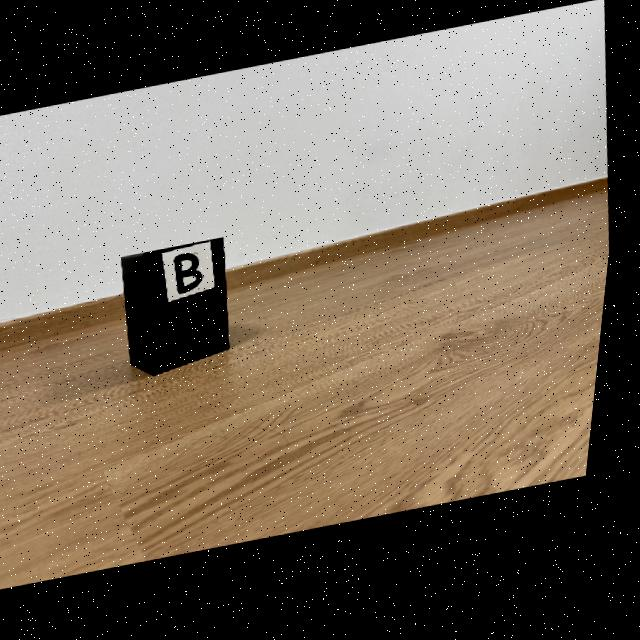B: (180, 255, 209, 297)
